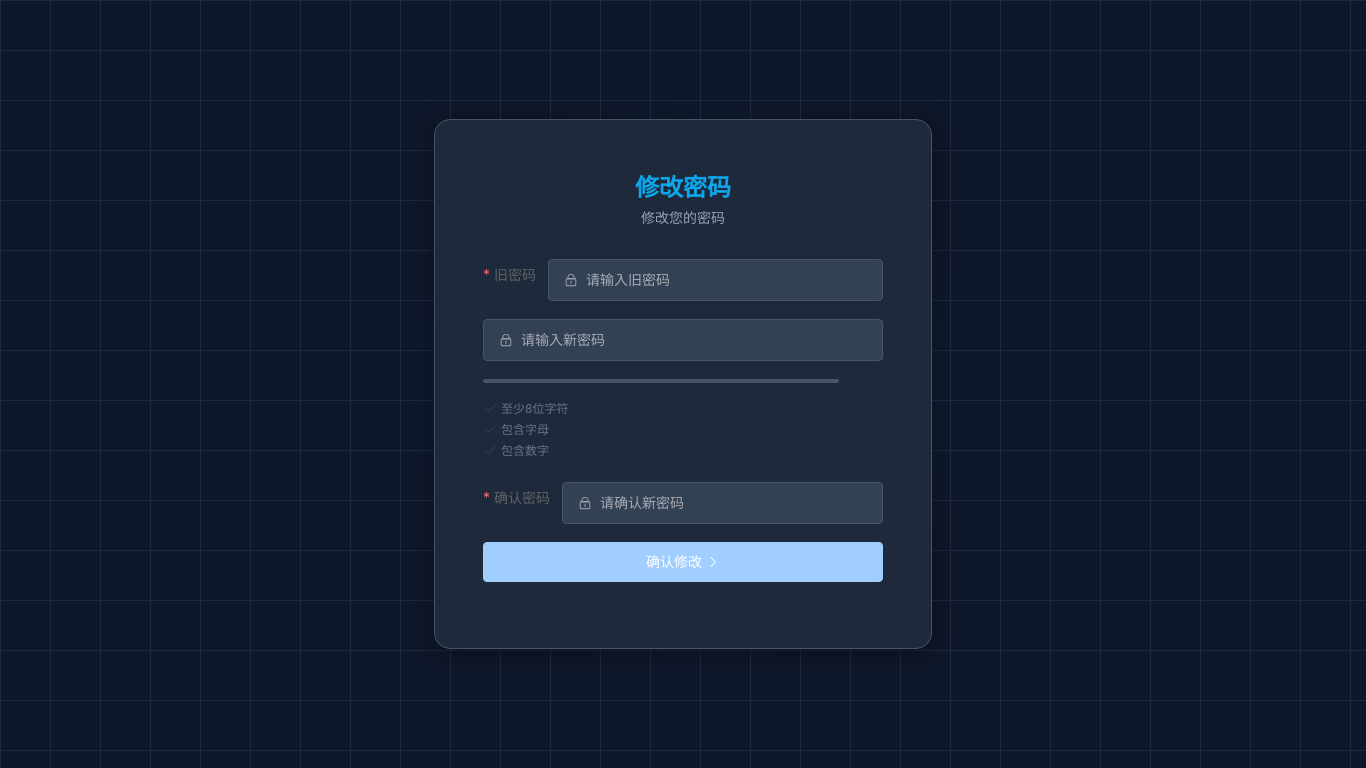
ChangePassword.vue › 密码强度指示器 › 输入中等密码时应显示"中等"
Type "abcdefgh" into the password field with placeholder "请输入新密码" at x=694, y=340, box top-left (521, 321), bottom-right (867, 359)
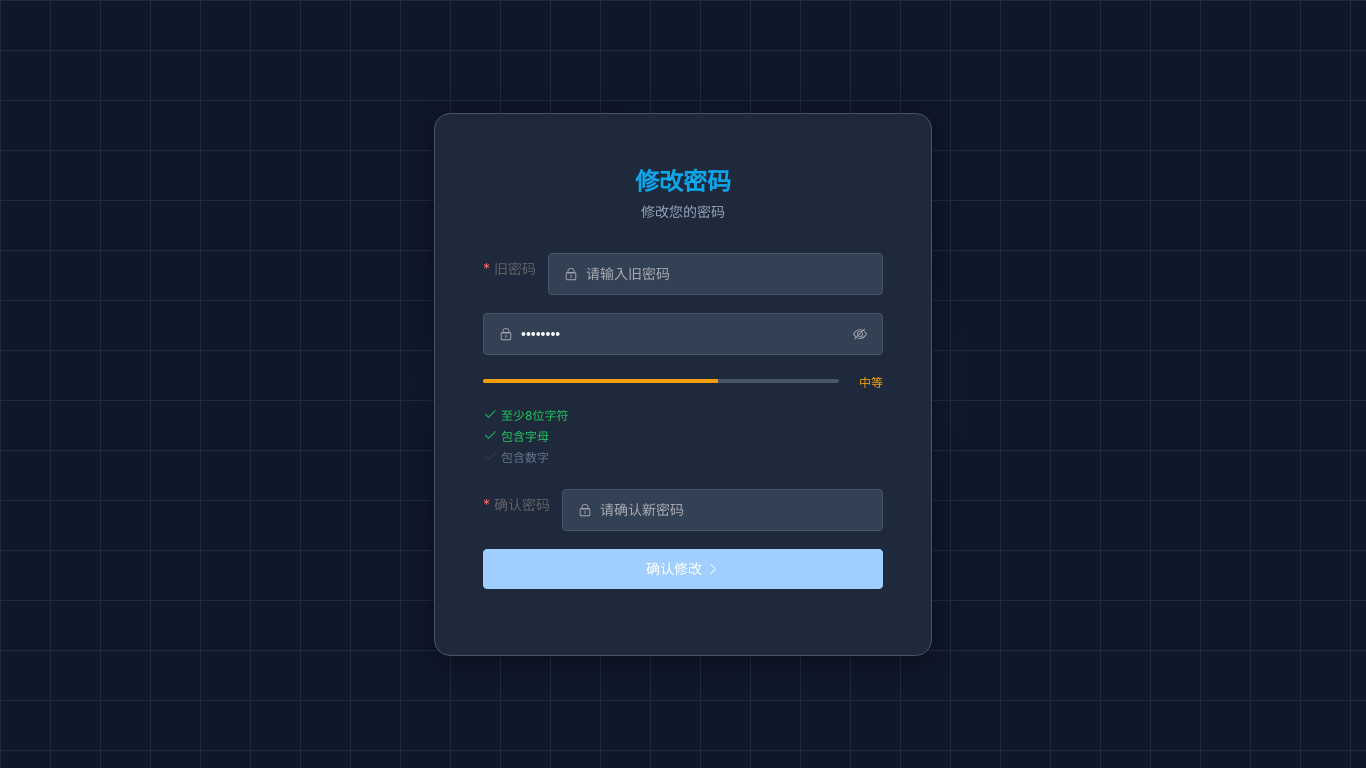
Result: the text "中等" is shown at top-left (859, 374), bottom-right (883, 390)
